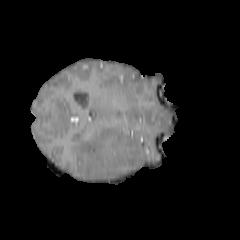glioma: (70, 125, 147, 181)
